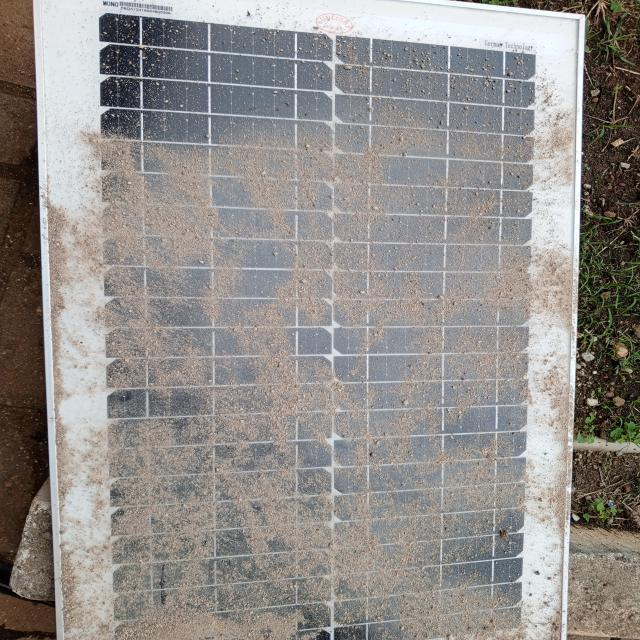Surface Contaminant: (82, 67, 552, 639)
